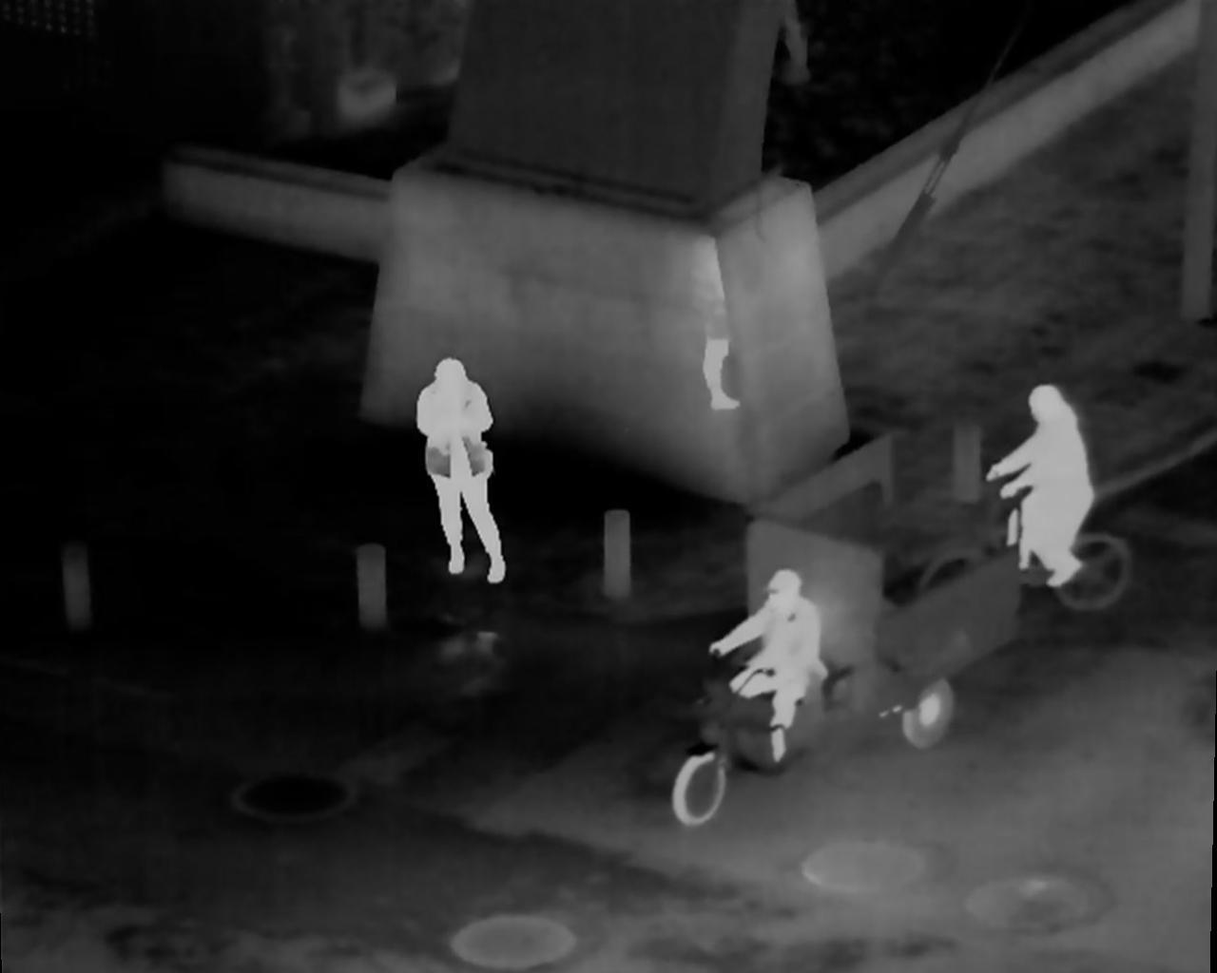person: (400, 353, 511, 586), (706, 569, 834, 768), (1009, 383, 1093, 594)
